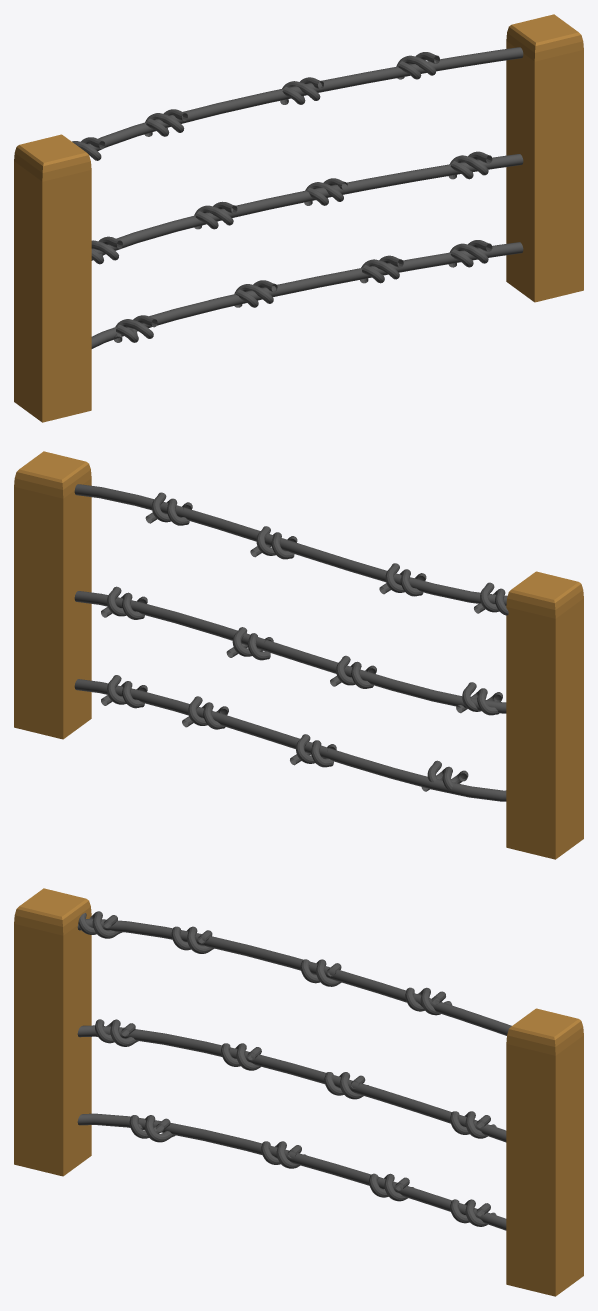
Rendered from alambrado.fbx.
The picture shows the model from 3 angles, top to bottom: view 1: azimuth 30°, elevation 25°; view 2: azimuth 150°, elevation 25°; view 3: azimuth 330°, elevation 25°; orthographic projection.
Parts seen in each view (by area): view 1: Maderas, Alambre; view 2: Maderas, Alambre; view 3: Maderas, Alambre.
Part boxes in pixels (<box>): Maderas: <box>14,14,583,422</box>; Alambre: <box>72,47,523,348</box>; Maderas: <box>14,451,583,859</box>; Alambre: <box>74,484,508,801</box>; Maderas: <box>14,888,583,1296</box>; Alambre: <box>77,911,511,1230</box>.
Size of the model in its own units: 440 by 200 by 51.73.
